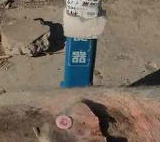text: (45, 108, 80, 139)
